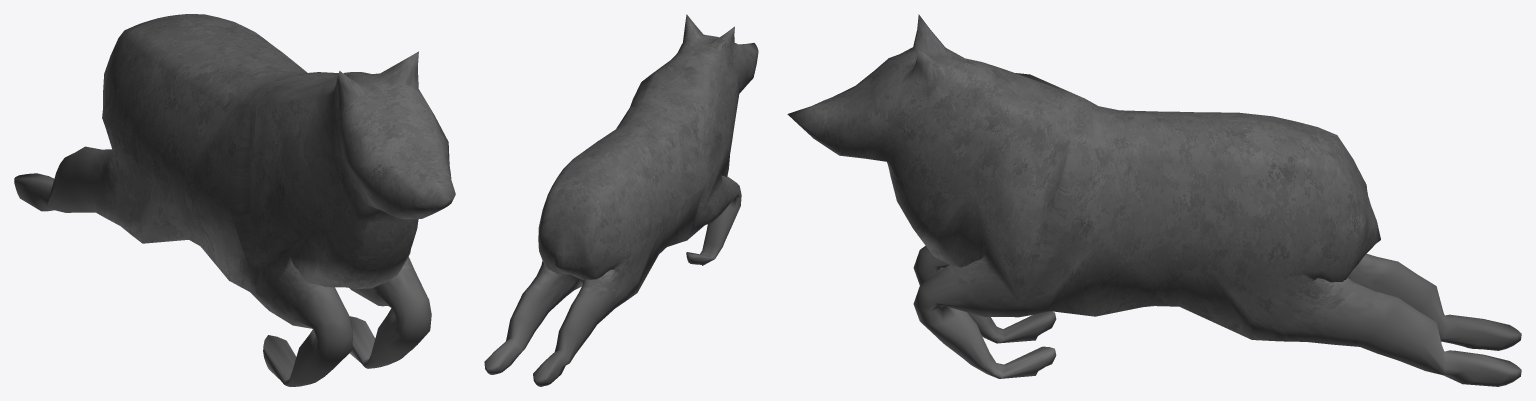
File: piesblend_000019.obj
3 renders of one model, left to right at view 1: azimuth 30°, elevation 25°; view 2: azimuth 150°, elevation 25°; view 3: azimuth 270°, elevation 25°, orthographic. The views are drawn at different scales.
Parts seen in each view (by area): view 1: Cube; view 2: Cube; view 3: Cube.
Part boxes in pixels (bbox=[...]): Cube: bbox=[14, 14, 455, 386]; Cube: bbox=[484, 14, 758, 386]; Cube: bbox=[787, 14, 1521, 386].
Size of the model in its own units: 2.55 by 5.44 by 10.78.
Materials: 1 (1 with a texture image).
